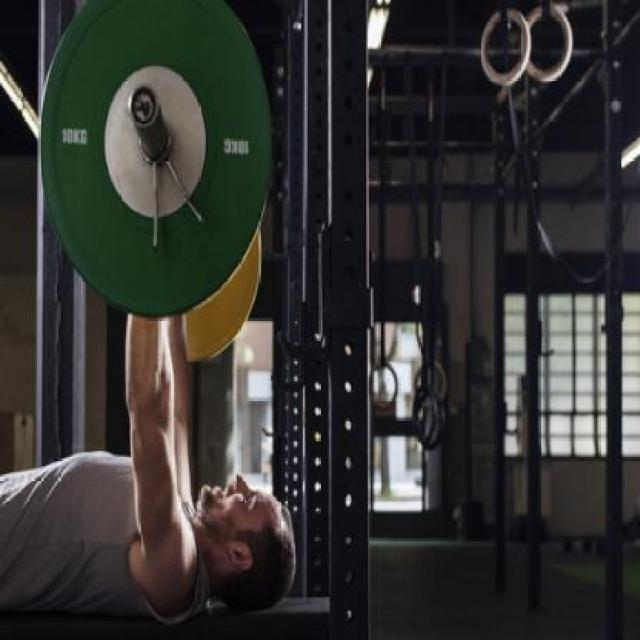Barbell: (128, 78, 162, 132)
